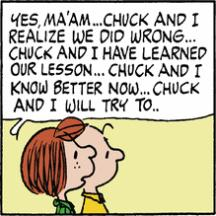charlie: (71, 120, 127, 216)
